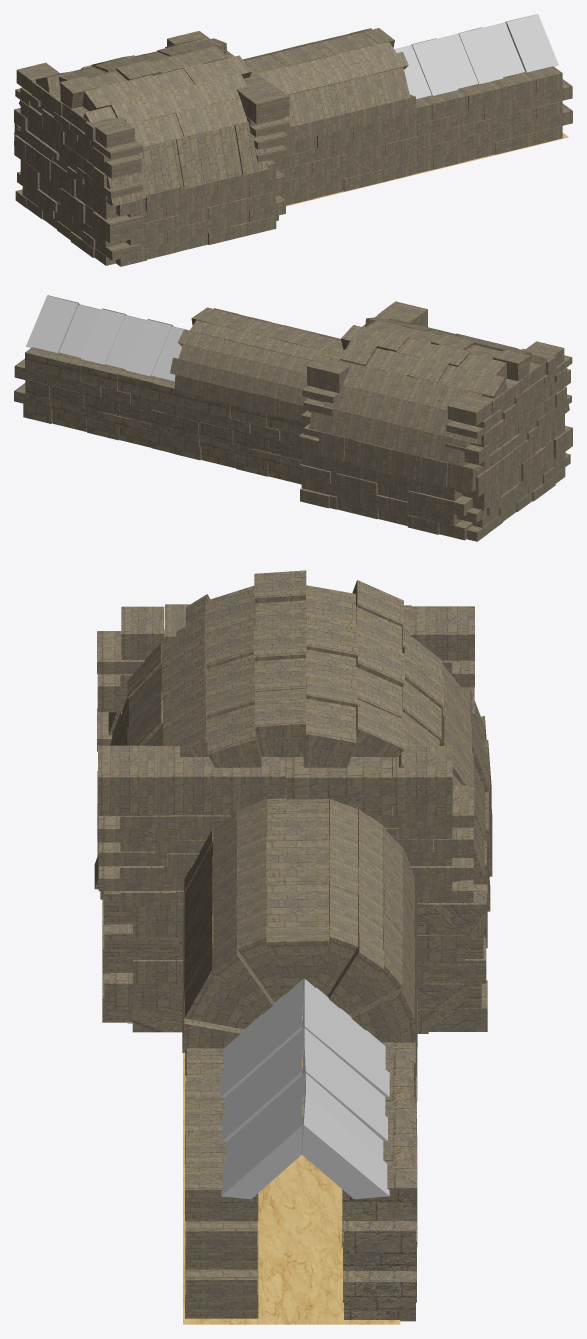
The model's file is documacii_principal_blender.fbx.
The picture shows the model from 3 angles, top to bottom: view 1: azimuth 30°, elevation 25°; view 2: azimuth 150°, elevation 25°; view 3: azimuth 270°, elevation 25°; orthographic projection. The views are drawn at different scales.
Visible parts, largest first — view 1: Wall.012, Wall.009, Wall.011, Wall.003, Wall.007, Wall.001, Wall.013, Wall.005, Wall.008, Plane.002; view 2: Wall.012, Wall.009, Wall.010, Wall.006, Wall.007, Wall.014, Wall.004, Wall.005, Wall.008, Wall.002; view 3: Wall.012, Wall.009, Wall.008, Wall.002, Wall.011, Wall.014, Plane.002, Wall.010, Wall.013, Wall.007, Wall.003, Wall.004.
Boxes of the visible parts, x1,y1,x2,y2 form: Wall.012: [14, 38, 268, 206]; Wall.009: [243, 28, 416, 143]; Wall.011: [407, 66, 572, 174]; Wall.003: [116, 160, 285, 266]; Wall.007: [14, 62, 142, 200]; Wall.001: [279, 113, 419, 205]; Wall.013: [394, 14, 558, 98]; Wall.005: [14, 134, 143, 265]; Wall.008: [167, 31, 289, 162]; Plane.002: [286, 133, 568, 206]; Wall.012: [309, 317, 569, 492]; Wall.009: [170, 307, 341, 423]; Wall.010: [14, 347, 177, 453]; Wall.006: [163, 389, 308, 484]; Wall.007: [445, 341, 572, 476]; Wall.014: [26, 295, 183, 381]; Wall.004: [301, 439, 472, 540]; Wall.005: [456, 412, 572, 541]; Wall.008: [301, 301, 427, 437]; Wall.002: [298, 433, 330, 508]; Wall.012: [94, 570, 492, 911]; Wall.009: [182, 793, 417, 1052]; Wall.008: [98, 745, 474, 906]; Wall.002: [110, 884, 487, 1033]; Wall.011: [185, 1048, 258, 1318]; Wall.014: [302, 979, 389, 1198]; Plane.002: [183, 1052, 400, 1324]; Wall.010: [342, 1042, 417, 1321]; Wall.013: [220, 979, 304, 1199]; Wall.007: [97, 604, 474, 751]; Wall.003: [100, 891, 173, 1022]; Wall.004: [464, 885, 487, 1007].
Bounding box in the file's own units: 1560 × 460 × 561.
